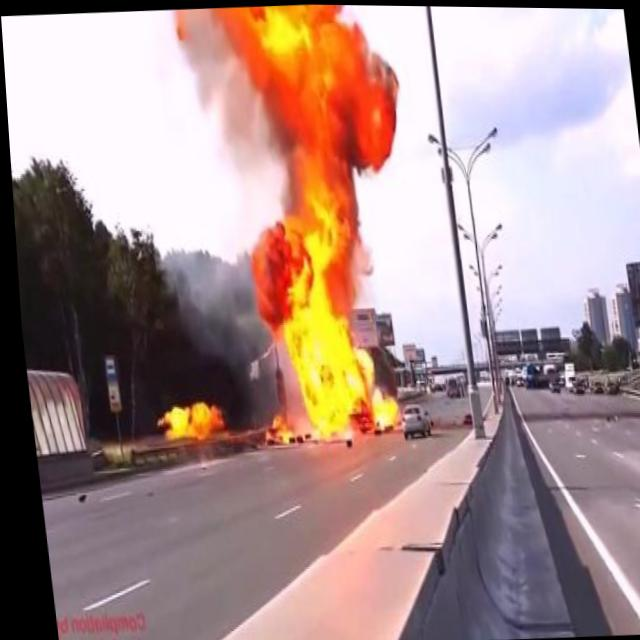fire: (203, 2, 438, 450), (142, 387, 225, 455)
